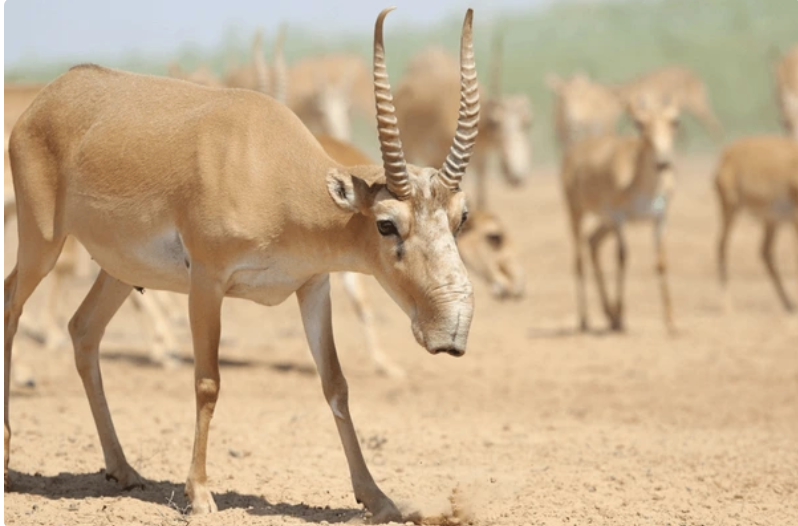saiga: (17, 11, 487, 517)
